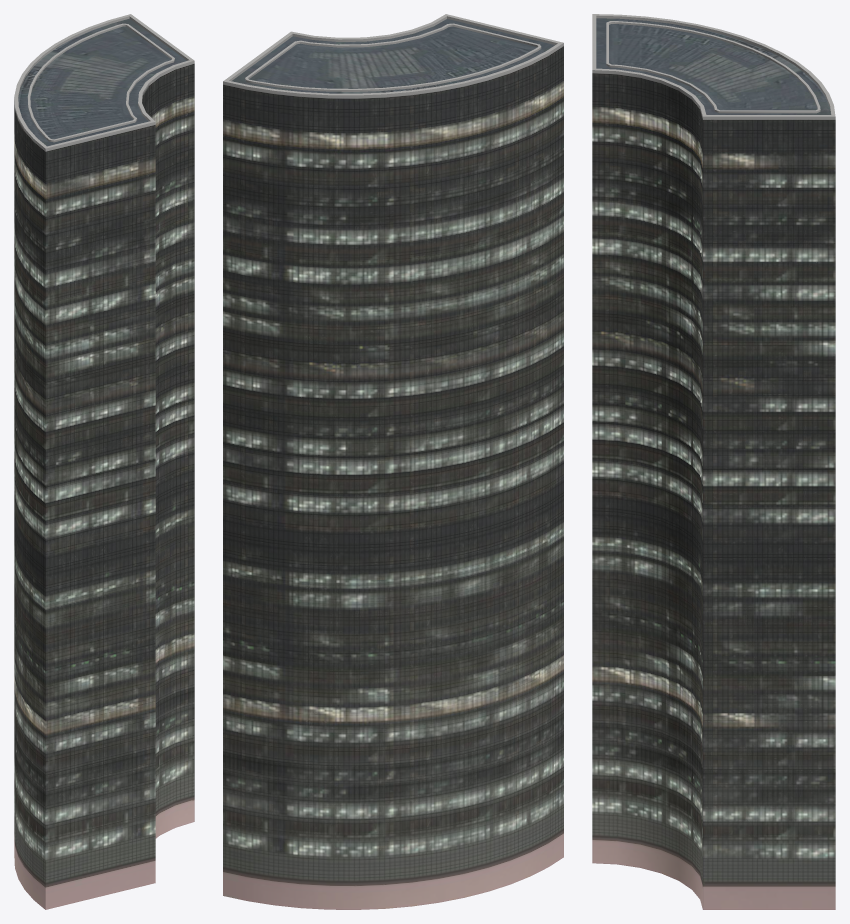
The model's file is Frankfurt_Skyper_LOD0.glb.
3 renders of one model, left to right at view 1: azimuth 30°, elevation 25°; view 2: azimuth 150°, elevation 25°; view 3: azimuth 270°, elevation 25°, orthographic. The views are drawn at different scales.
Visible parts, largest first — view 1: Frankfurt_Skyper_LOD0; view 2: Frankfurt_Skyper_LOD0; view 3: Frankfurt_Skyper_LOD0.
Boxes of the visible parts, x1,y1,x2,y2 form: Frankfurt_Skyper_LOD0: (14,14,194,909); Frankfurt_Skyper_LOD0: (223,14,563,909); Frankfurt_Skyper_LOD0: (592,14,835,909).
Size of the model in its own units: 50.19 by 181 by 50.19.
Materials: 1 (1 with a texture image).
